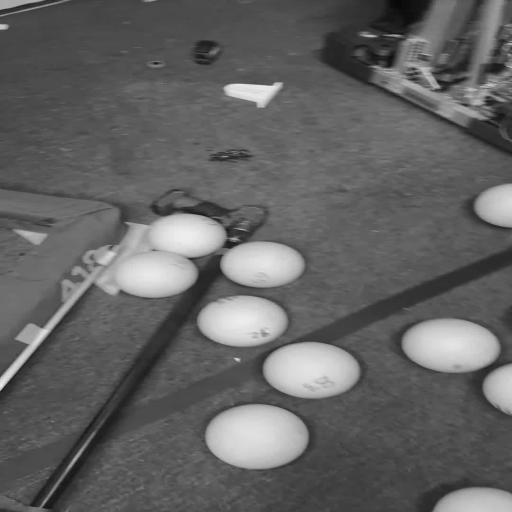fuel: (205, 404, 309, 470), (263, 342, 361, 399), (402, 319, 501, 373), (197, 296, 288, 347), (113, 251, 198, 298), (221, 242, 305, 287), (147, 214, 226, 258), (432, 488, 511, 511), (473, 184, 512, 228), (483, 364, 511, 415)
